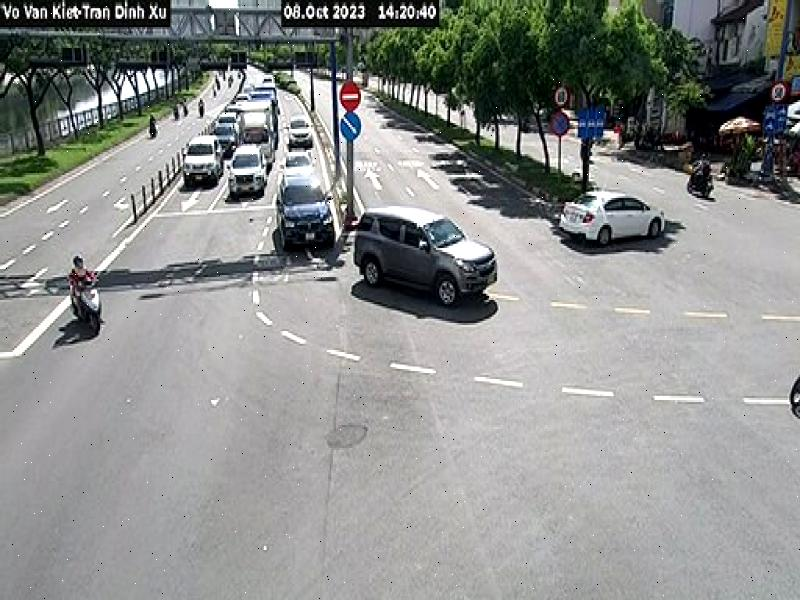car: (354, 207, 498, 309), (562, 190, 665, 251), (277, 178, 336, 256), (184, 135, 224, 188), (229, 143, 265, 196), (280, 151, 315, 194), (287, 113, 314, 151), (212, 122, 239, 159)
motorcycle: (70, 280, 102, 332)
truck: (240, 100, 275, 172)
